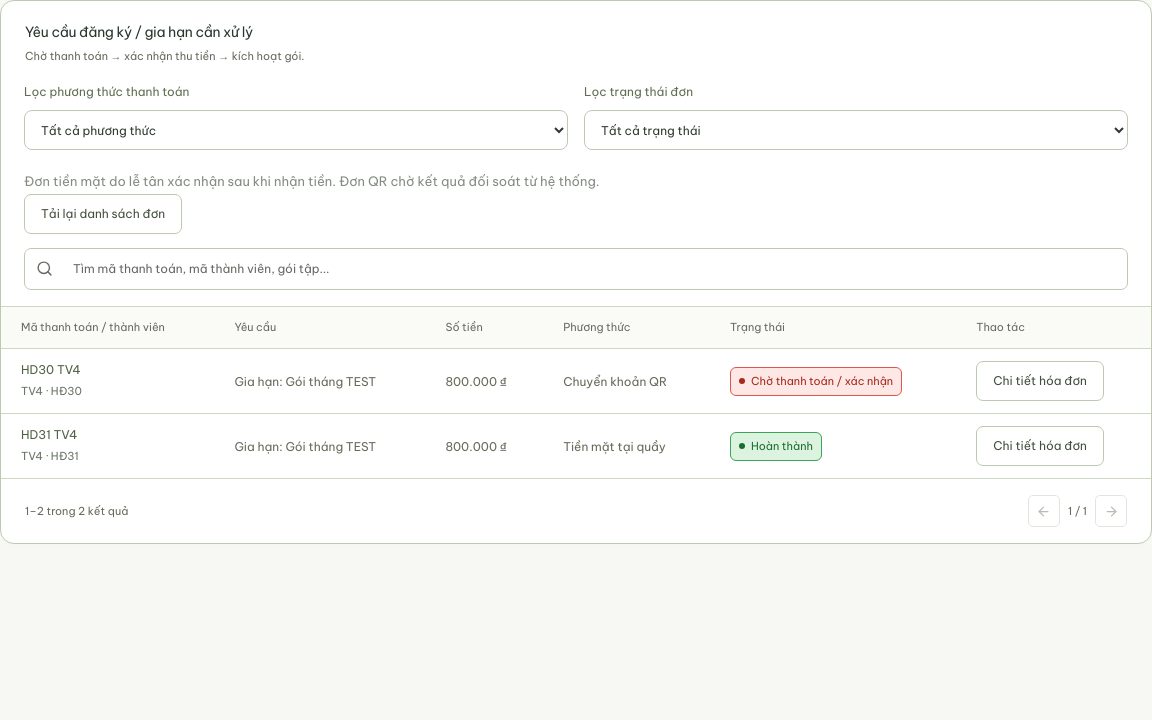
Phần FE còn thiếu của luồng thanh toán › shows cash and QR orders together and filters independently by method and completion
Expected: the text "HD30 TV4" is shown, [21,362,81,377]
Expected: the text "HD31 TV4" is shown, [21,427,78,442]
Select "Chuyển khoản QR" in the dropdown labelled "Lọc phương thức thanh toán" at (296, 130), box [24,110,568,150]
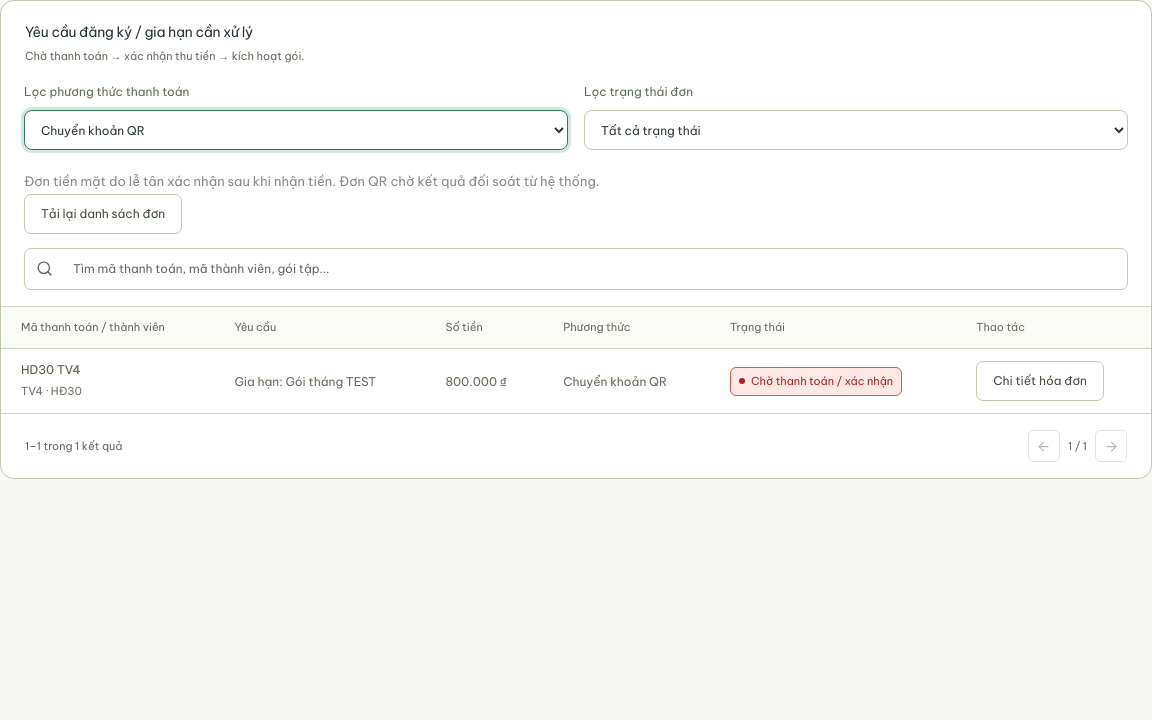
Now the text "HD31 TV4" is gone
Select "Tất cả phương thức" in the dropdown labelled "Lọc phương thức thanh toán" at (296, 130), box [24,110,568,150]
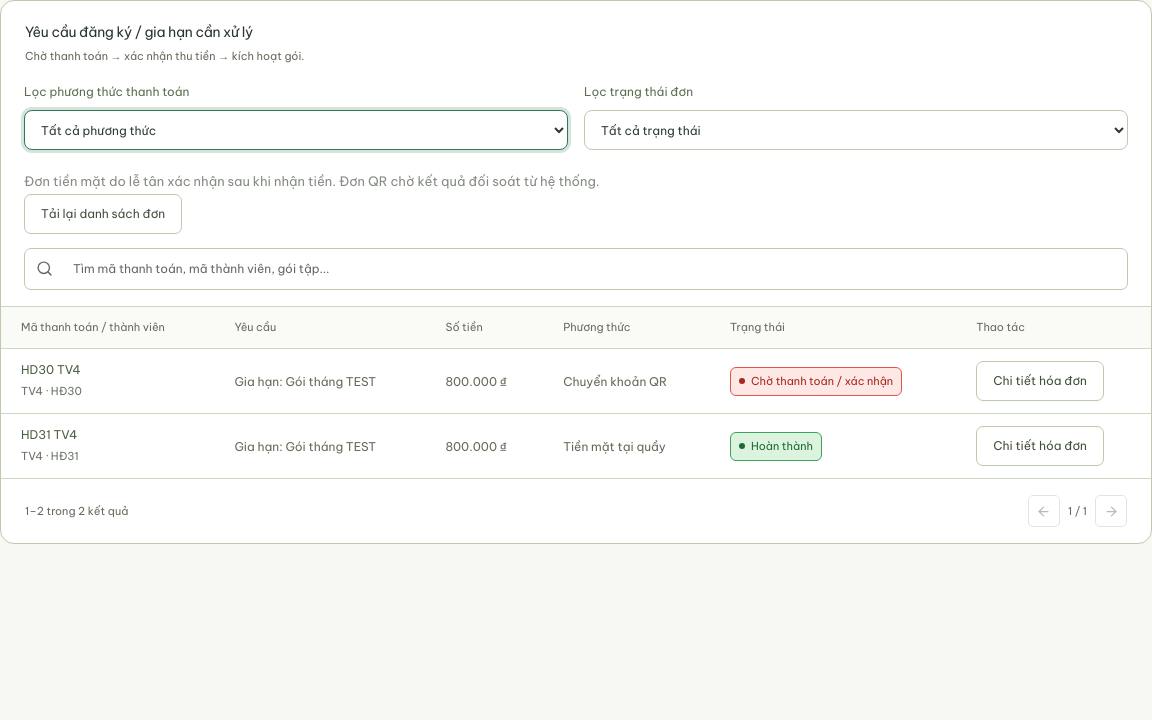
Select "Hoàn thành" in the dropdown labelled "Lọc trạng thái đơn" at (856, 130), box [584,110,1128,150]
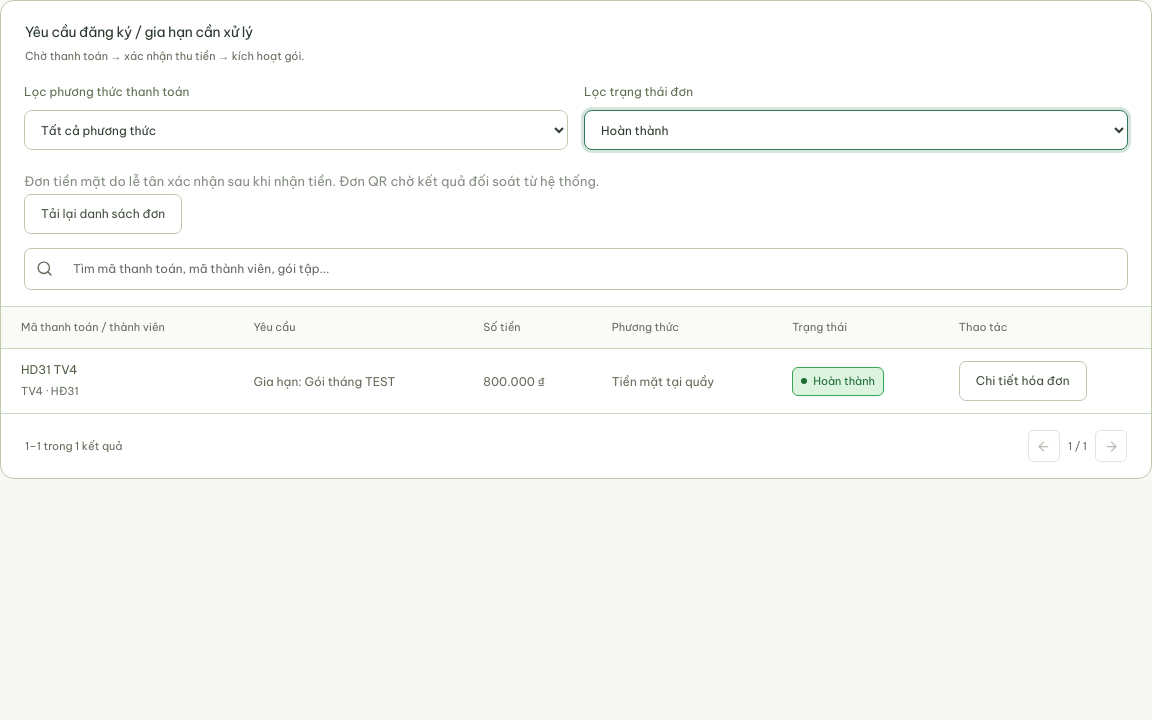
Now the text "HD31 TV4" is shown, box [21,362,78,377]
Now the text "HD30 TV4" is gone
